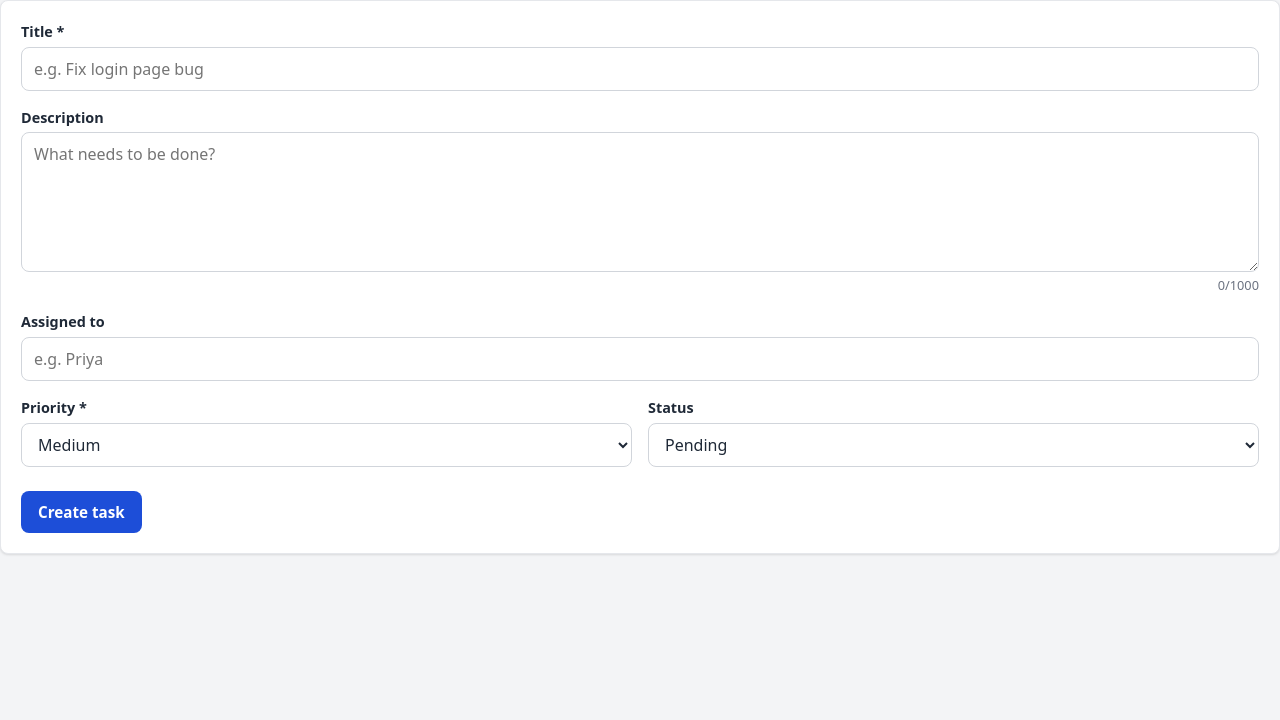
Test: TaskForm › shows an error when the title is too short
The width and height of the screenshot is (1280, 720).
In the field labelled "Title *": (640, 69) [21,47,1259,91], type "ab"
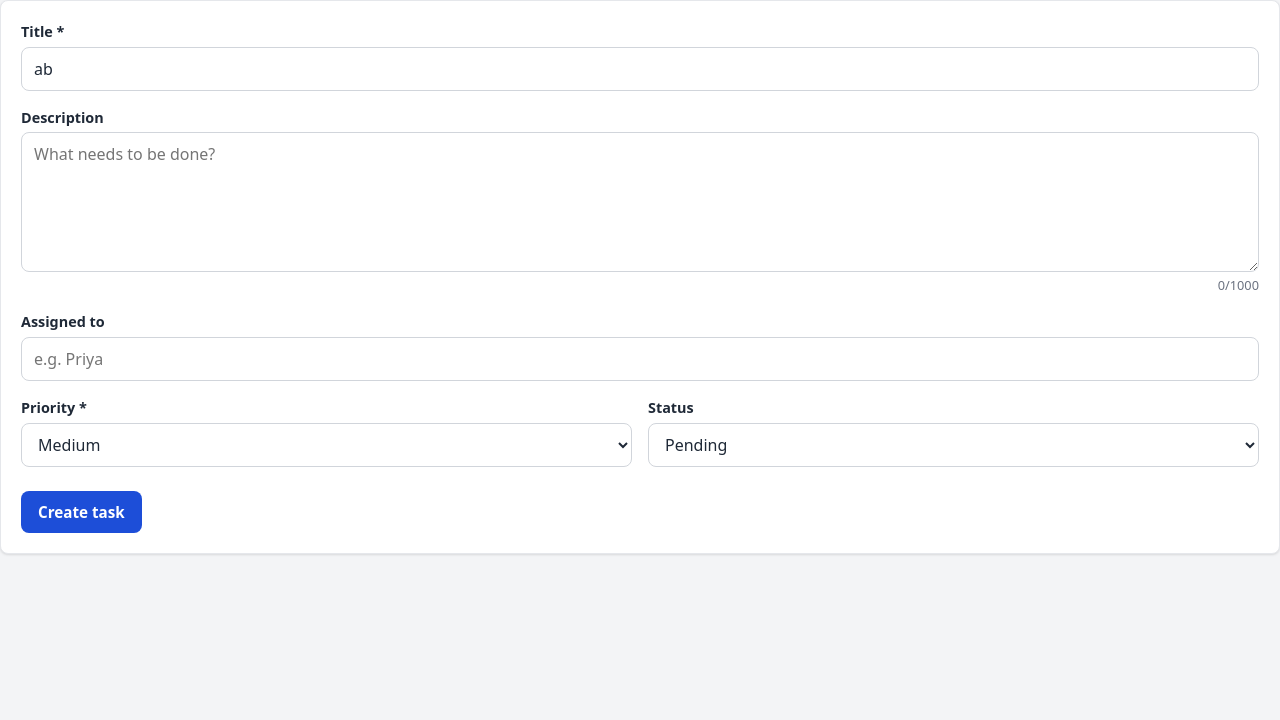
Click the button "Create task": (81, 512) [21,491,142,533]
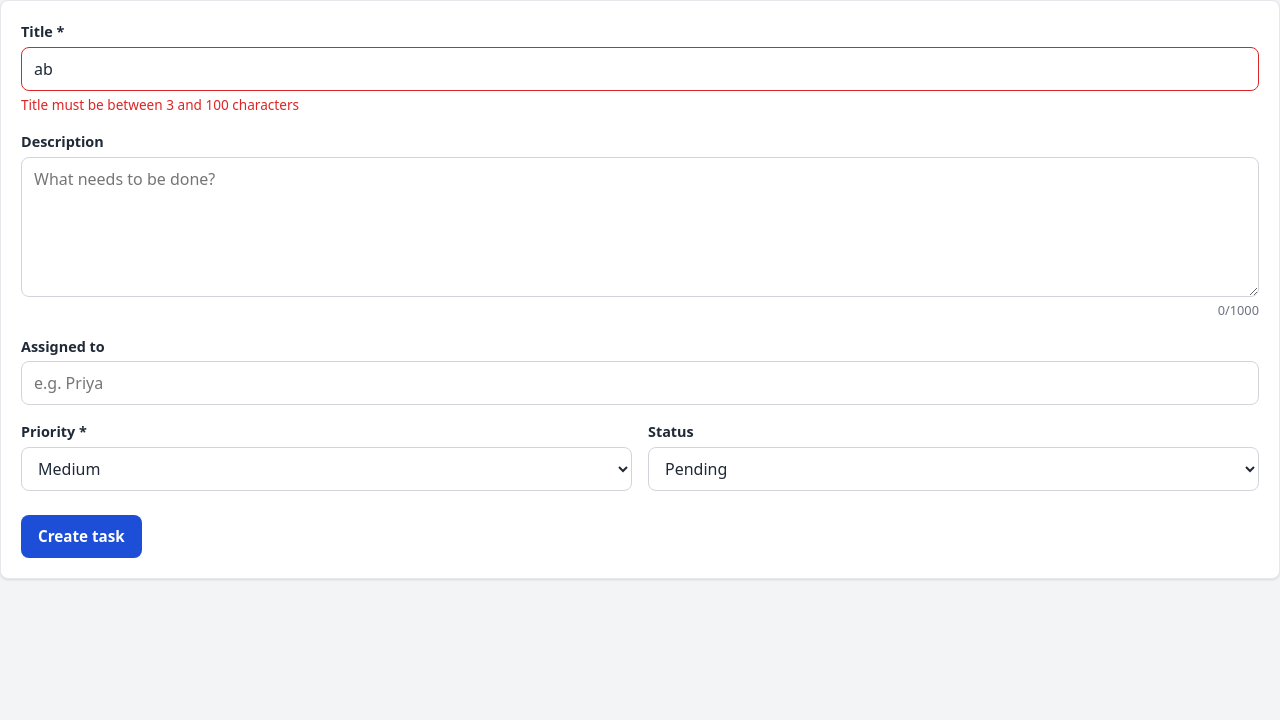
Expected: the text "Title must be between 3 and 100 characters" is shown, [21,95,299,114]
